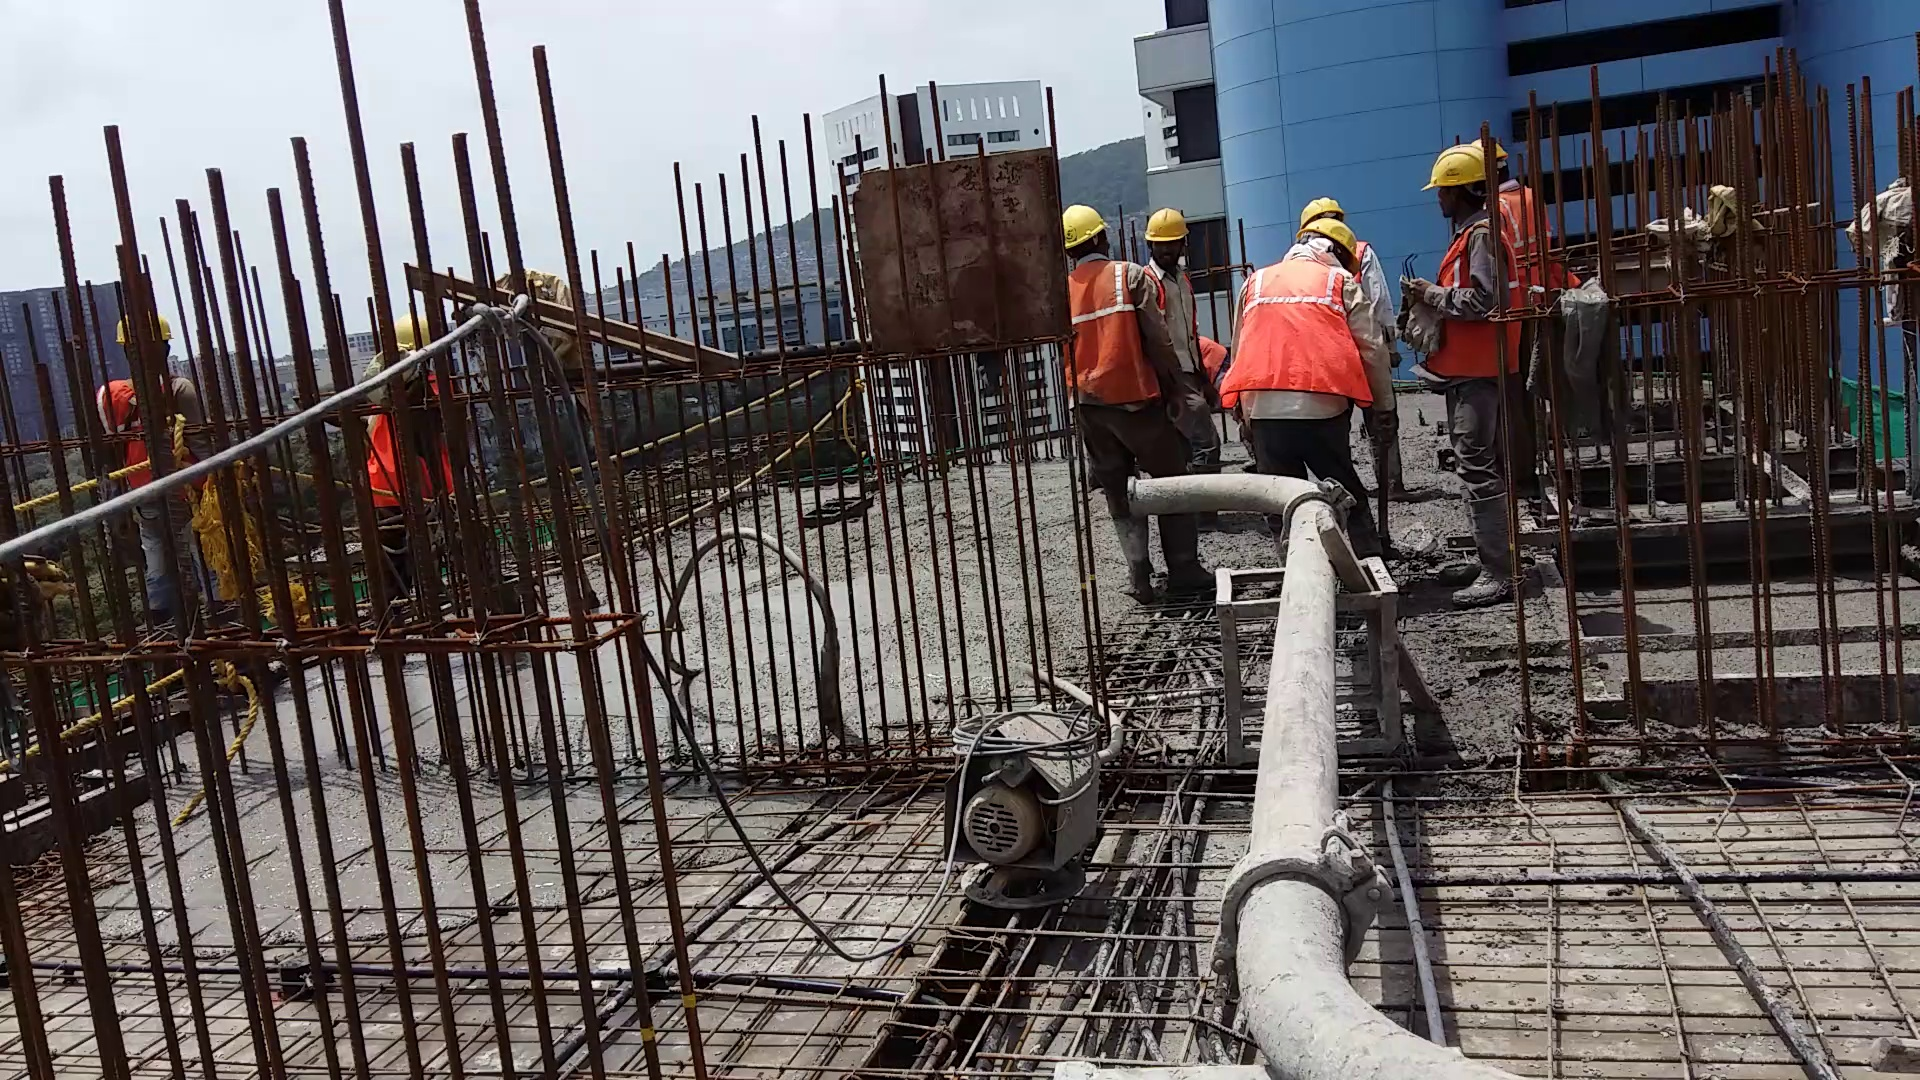SAFE: (1232, 222, 1364, 421), (1056, 198, 1153, 421), (1428, 142, 1501, 382)
